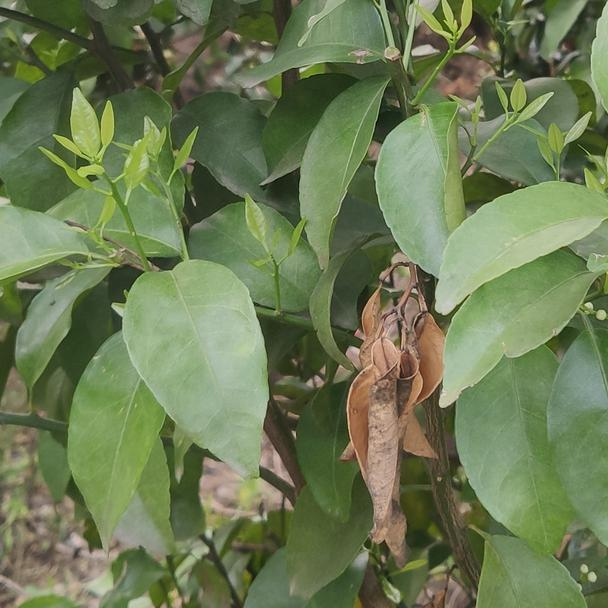shoot: (53, 106, 147, 238), (235, 202, 309, 299), (128, 133, 200, 223), (417, 2, 478, 82), (487, 79, 557, 147)
